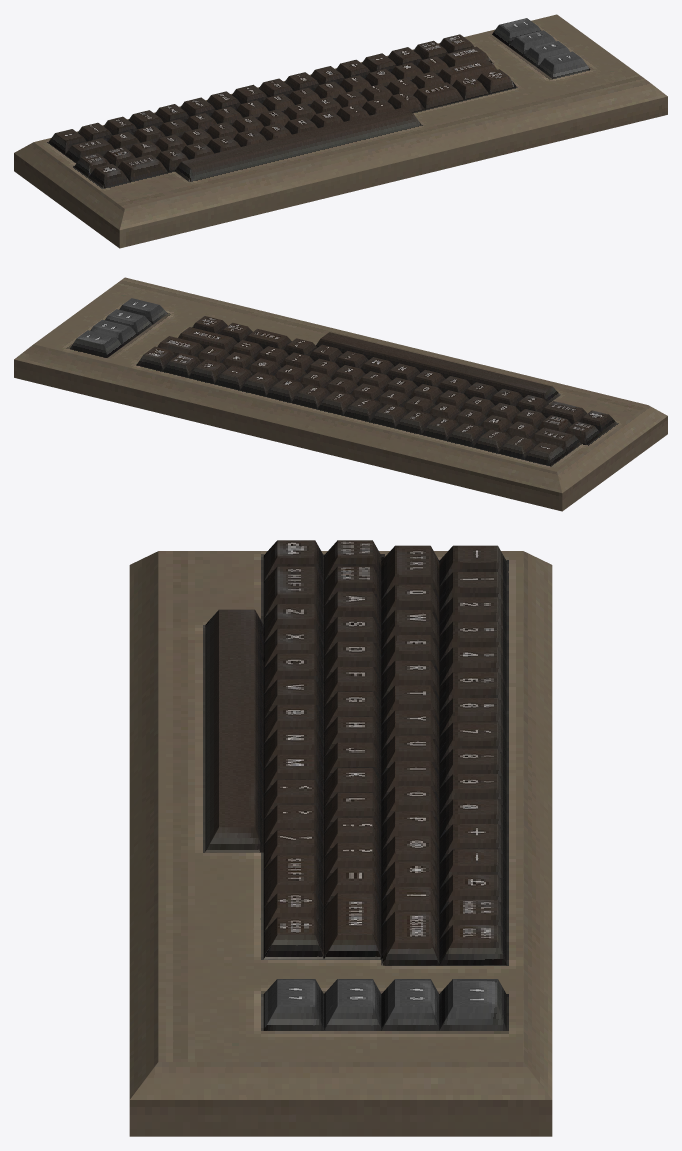
File: pc_keyboard_mp_3.glb
The picture shows the model from 3 angles, top to bottom: view 1: azimuth 30°, elevation 25°; view 2: azimuth 150°, elevation 25°; view 3: azimuth 270°, elevation 25°; orthographic projection. The views are drawn at different scales.
Parts seen in each view (by area): view 1: pc_keyboard_mp_3; view 2: pc_keyboard_mp_3; view 3: pc_keyboard_mp_3.
Boxes of the visible parts, x1,y1,x2,y2 form: pc_keyboard_mp_3: (14,14,667,248); pc_keyboard_mp_3: (14,277,667,511); pc_keyboard_mp_3: (129,540,552,1136).
Bounding box in the file's own units: 0.55 × 0.0396 × 0.1836.
Materials: 1 (1 with a texture image).
